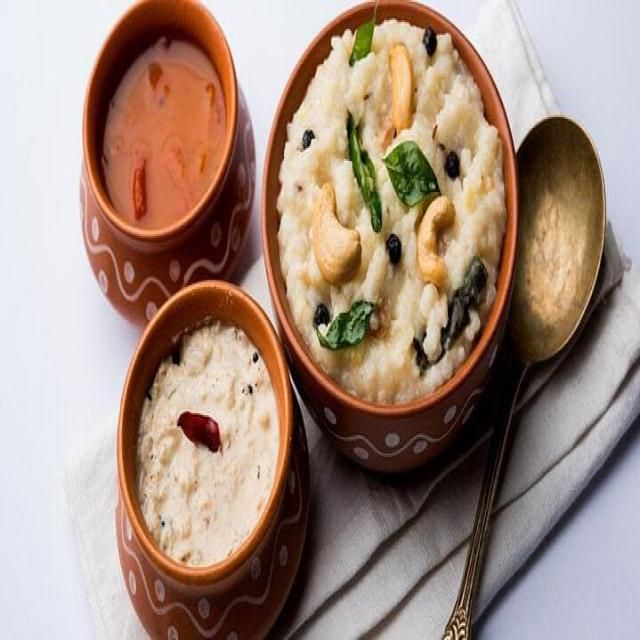khara pongal: (274, 12, 510, 425)
